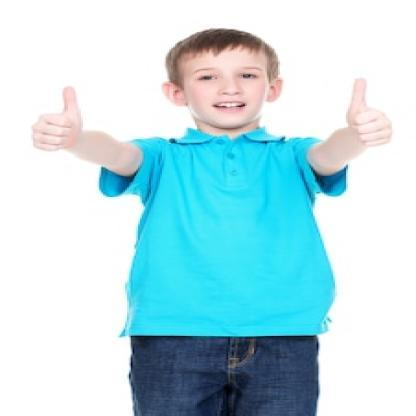thumb_up: (24, 82, 88, 155), (335, 76, 395, 151)
